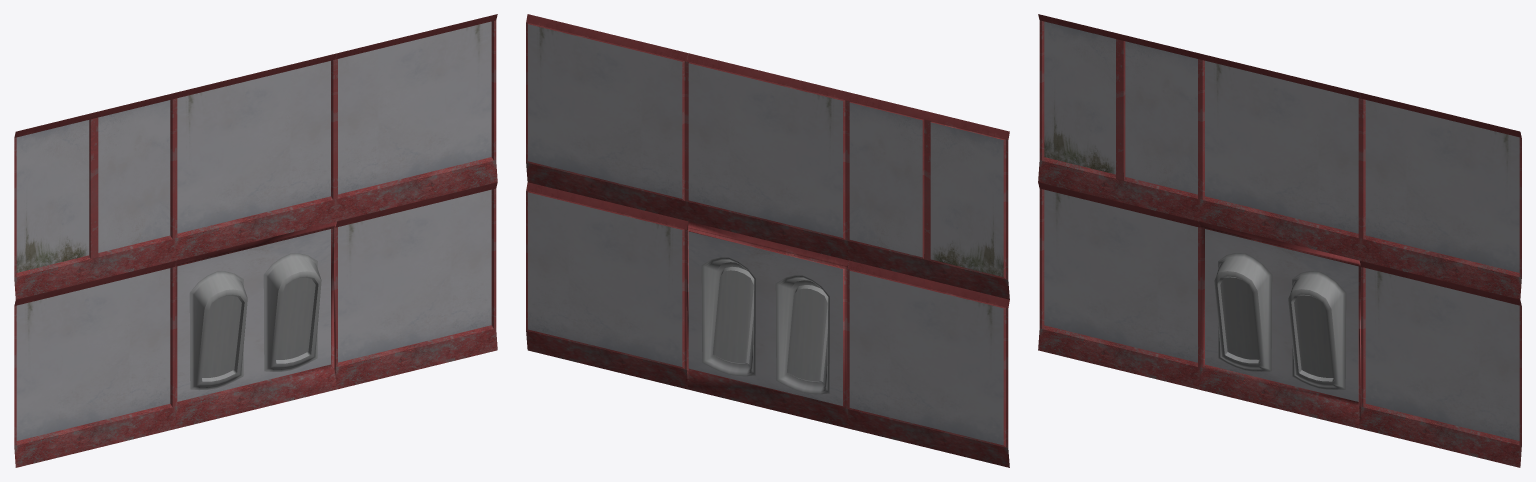
File: Wall.fbx
3 renders of one model, left to right at view 1: azimuth 30°, elevation 25°; view 2: azimuth 150°, elevation 25°; view 3: azimuth 330°, elevation 25°, orthographic.
Visible parts, largest first — view 1: Factory_Modules:Wall_Type2.002; view 2: Factory_Modules:Wall_Type2.002; view 3: Factory_Modules:Wall_Type2.002.
Boxes of the visible parts, x1=… form: Factory_Modules:Wall_Type2.002: x1=14, y1=14, x2=497, y2=467; Factory_Modules:Wall_Type2.002: x1=526, y1=14, x2=1009, y2=467; Factory_Modules:Wall_Type2.002: x1=1038, y1=14, x2=1521, y2=467.
Size of the model in its own units: 750 by 500 by 26.79.
Materials: 2 (2 with a texture image).
